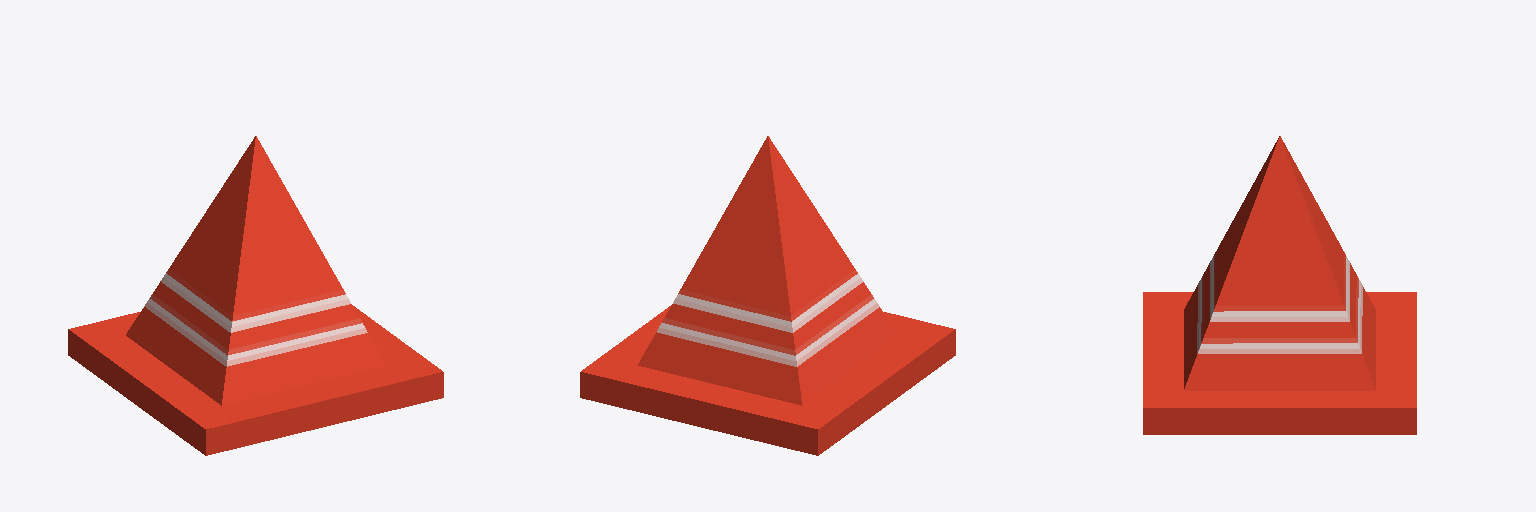
The picture shows the model from 3 angles: view 1: azimuth 30°, elevation 25°; view 2: azimuth 150°, elevation 25°; view 3: azimuth 270°, elevation 25°; orthographic projection.
Parts seen in each view (by area): view 1: 立方体; view 2: 立方体; view 3: 立方体.
Boxes of the visible parts, <box> form: 立方体: <box>68,136,443,455</box>; 立方体: <box>580,136,955,455</box>; 立方体: <box>1143,136,1416,434</box>.
Bounding box in the file's own units: 2 × 1.94 × 2.
Materials: 1 (1 with a texture image).